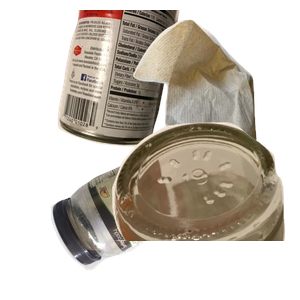glass: (89, 120, 300, 300)
metal: (55, 10, 227, 149)
plastic: (48, 152, 228, 300)
trash: (131, 17, 300, 197)
